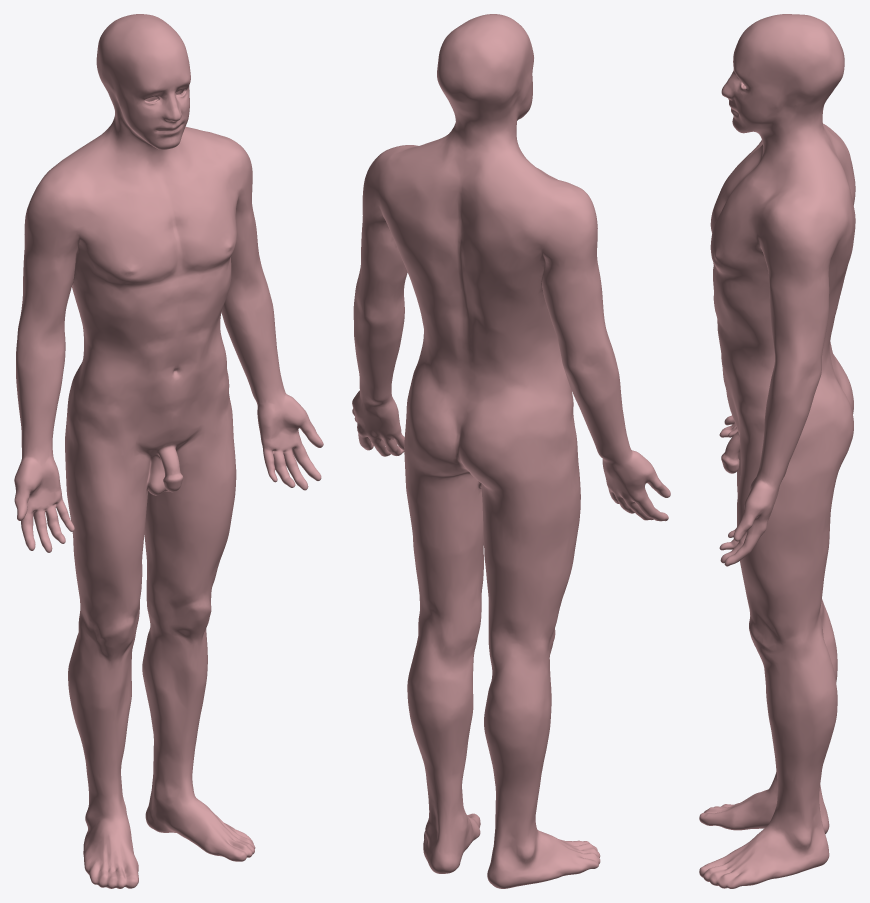
Rendered from fma7163_fj2810.glb.
3 renders of one model, left to right at view 1: azimuth 30°, elevation 25°; view 2: azimuth 150°, elevation 25°; view 3: azimuth 270°, elevation 25°, orthographic. The views are drawn at different scales.
Parts seen in each view (by area): view 1: FMA7163_FJ2810; view 2: FMA7163_FJ2810; view 3: FMA7163_FJ2810.
Boxes of the visible parts, x1=… form: FMA7163_FJ2810: x1=14, y1=14, x2=323, y2=888; FMA7163_FJ2810: x1=352, y1=14, x2=670, y2=888; FMA7163_FJ2810: x1=699, y1=14, x2=855, y2=888.
Bounding box in the file's own units: 0.6669 × 1.72 × 0.292.
